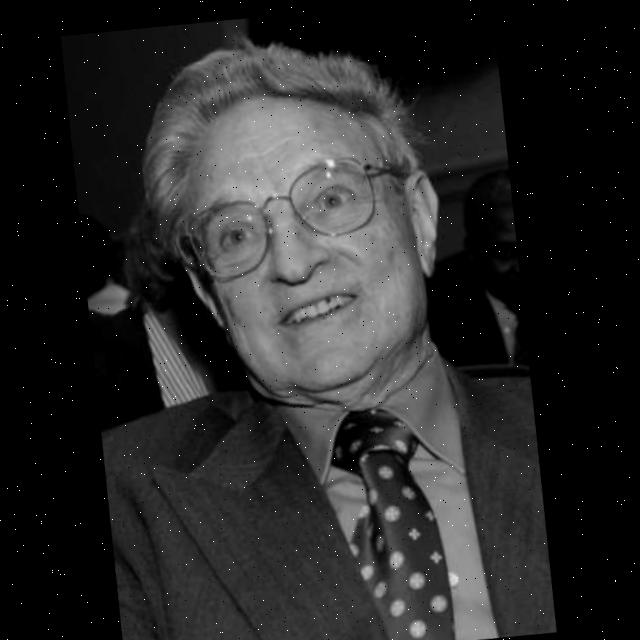face: (160, 64, 468, 433)
